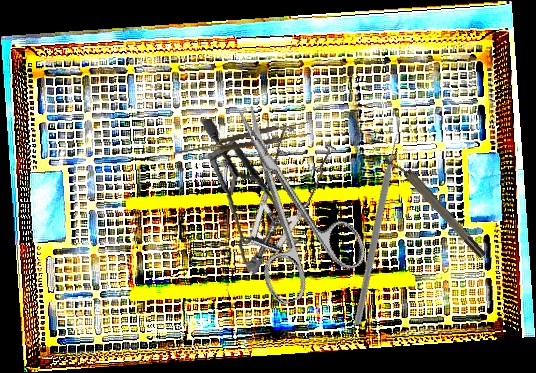Chopper: (297, 124, 471, 326)
Fixation Ring: (383, 147, 488, 265)
Iris Scissors: (199, 86, 375, 309)
Speculum: (190, 106, 369, 277), (183, 118, 314, 274)
Tissue Forceps: (171, 120, 312, 161)
